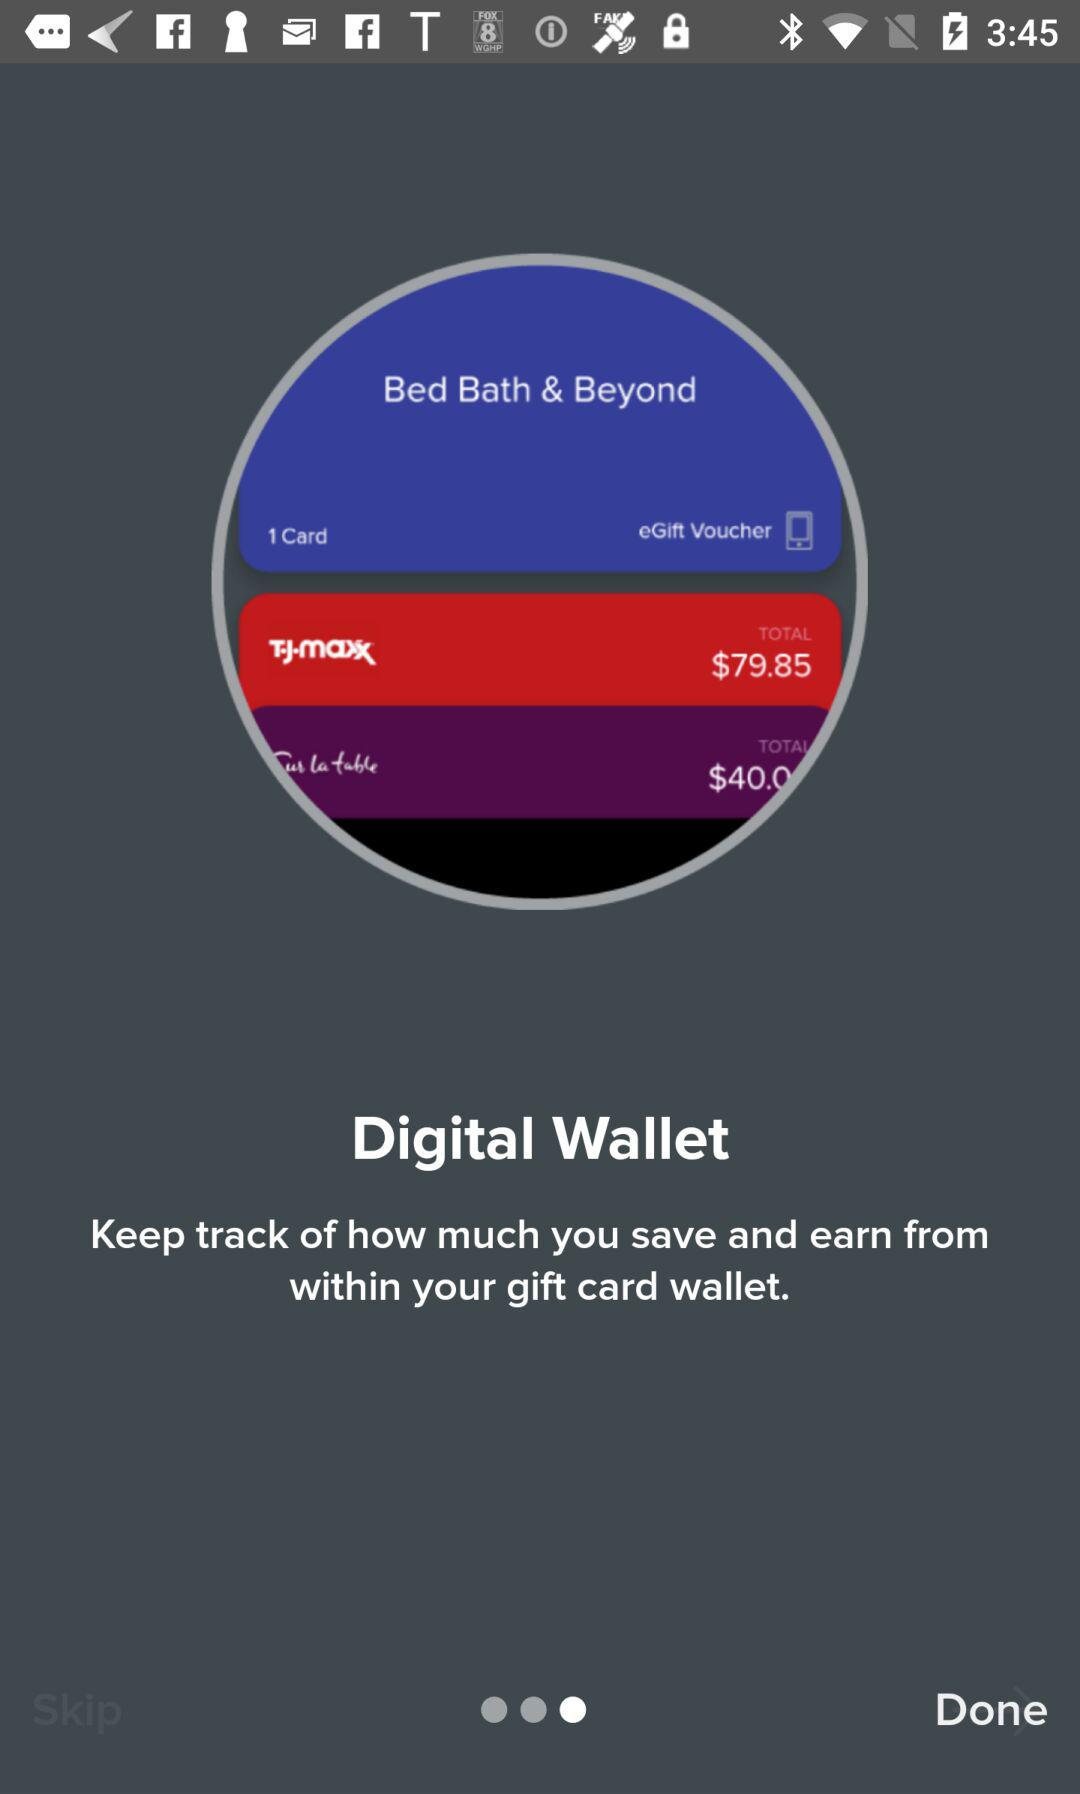Image: (210, 252, 870, 912)
PageIndicator: (480, 1694, 588, 1725)
Text: (94, 1219, 988, 1310), (354, 1114, 732, 1173), (937, 1691, 1048, 1727), (32, 1691, 123, 1734)
UpperTaskBar: (1, 1, 1080, 64)
